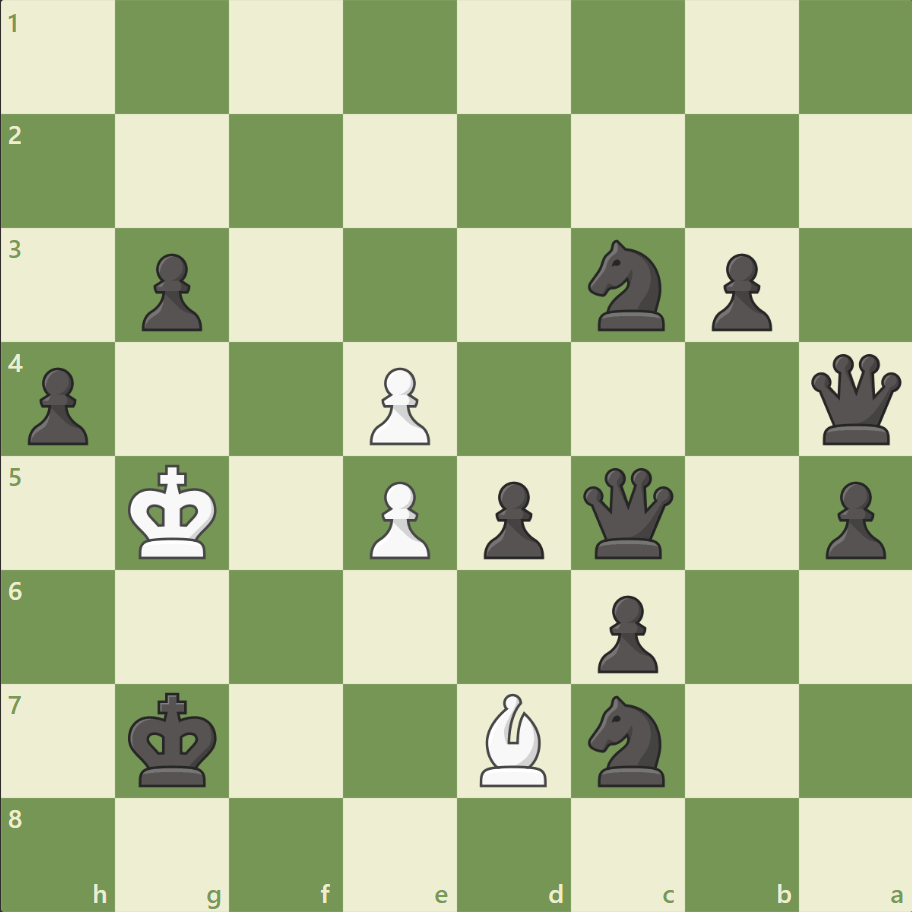B: (471, 687, 555, 790)
K: (124, 458, 224, 566)
P: (361, 473, 435, 564), (361, 359, 435, 450)
k: (124, 685, 224, 793)
n: (579, 688, 676, 791), (579, 234, 676, 337)
p: (474, 473, 549, 564), (20, 359, 95, 450), (701, 246, 776, 337), (133, 246, 208, 337), (588, 586, 662, 677), (815, 473, 889, 564)
q: (805, 349, 904, 449), (578, 463, 677, 562)
